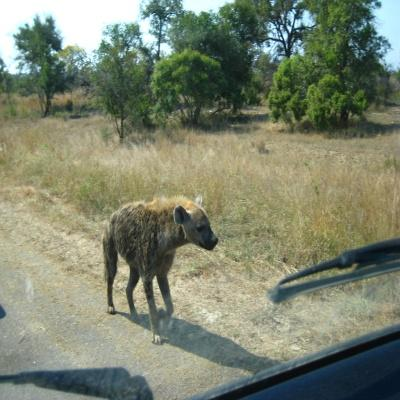hyenas: (93, 170, 261, 337)
